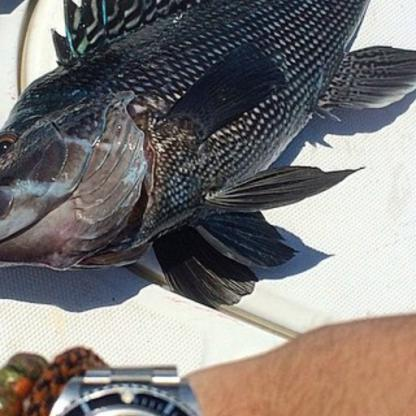knife: (0, 0, 104, 199)
